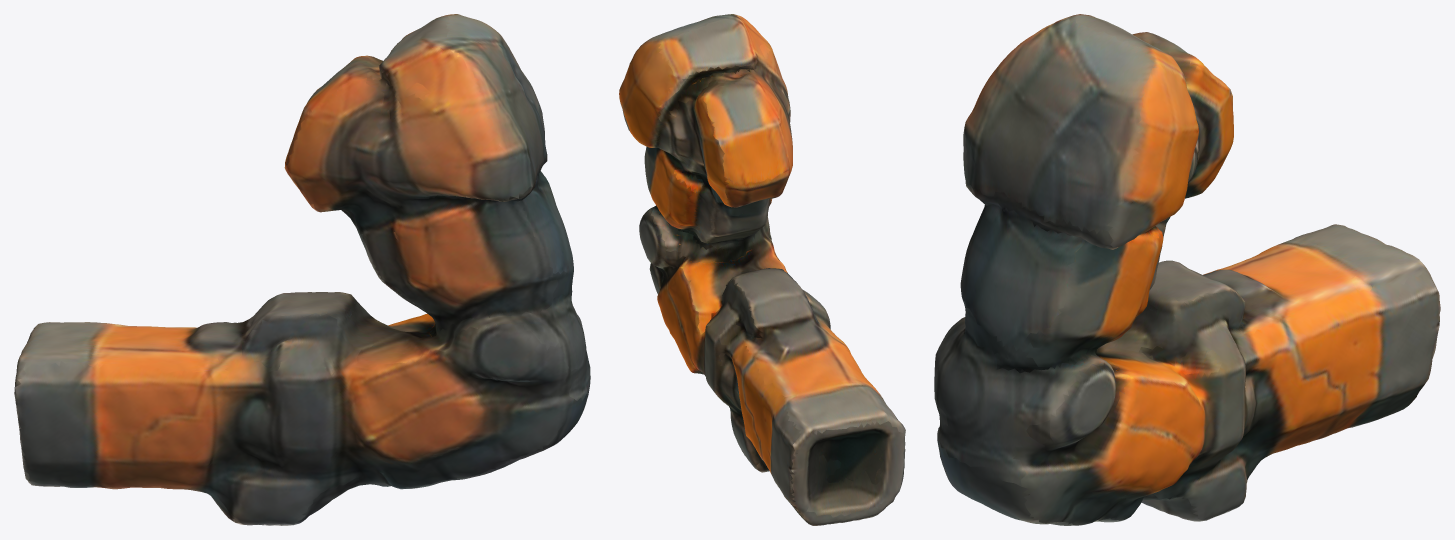
File: R_Arm_3.glb
3 views of the same model, side by side, from view 1: azimuth 30°, elevation 25°; view 2: azimuth 150°, elevation 25°; view 3: azimuth 270°, elevation 25° (orthographic). The views are drawn at different scales.
Parts seen in each view (by area): view 1: world; view 2: world; view 3: world.
Boxes of the visible parts, bbox=[...] form: world: bbox=[14, 14, 590, 525]; world: bbox=[619, 14, 905, 525]; world: bbox=[934, 14, 1440, 525].
Bounding box in the file's own units: 0.7774 × 0.8111 × 0.6785.
Materials: 1 (1 with a texture image).
